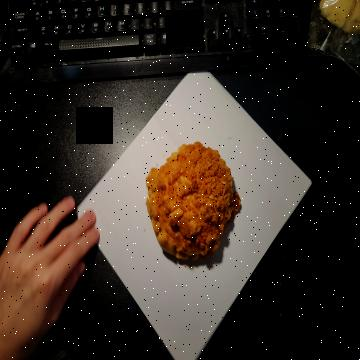soboru_bread: (144, 143, 242, 266)
